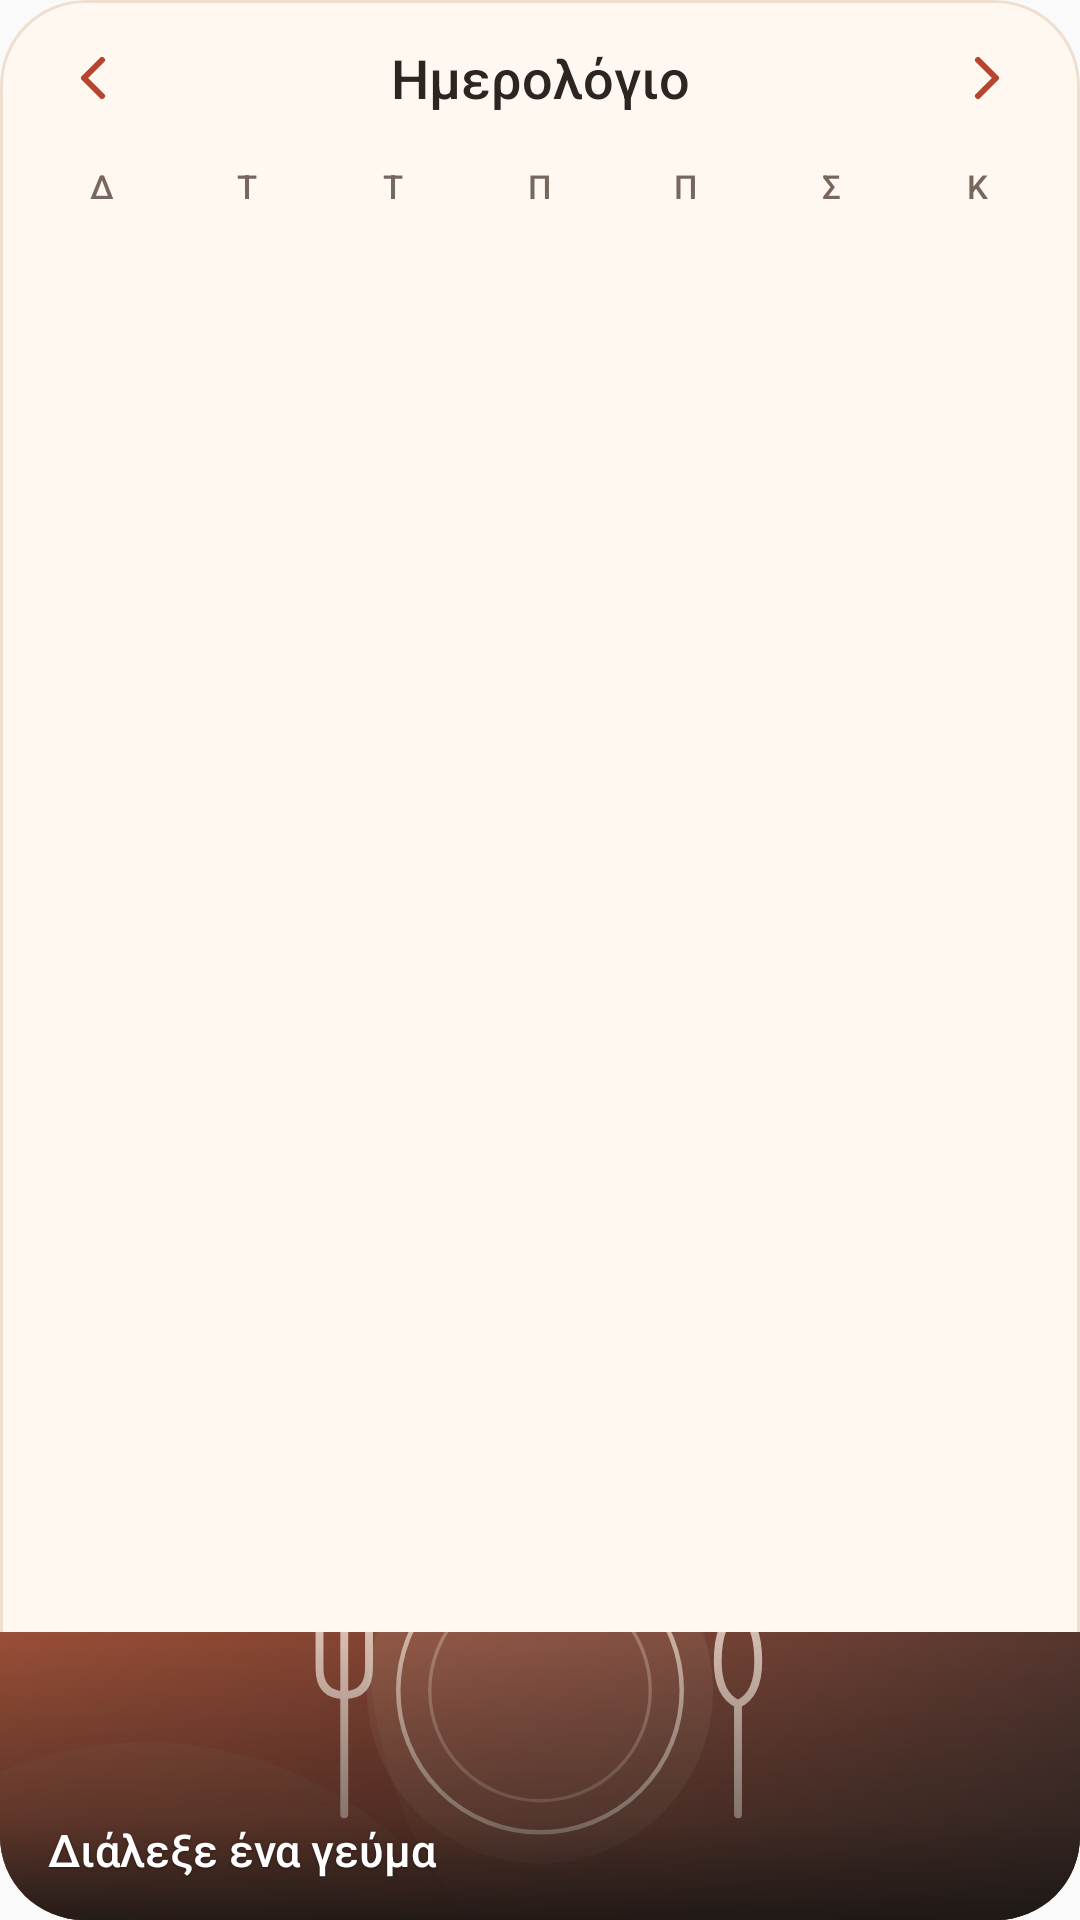

Screen size 1080px x 1920px. Icon name, then its box in pixels as (x1, y1, x2, y2):
Επόμενος μήνας: (975, 57, 999, 99)
Προηγούμενος μήνας: (81, 57, 105, 99)
